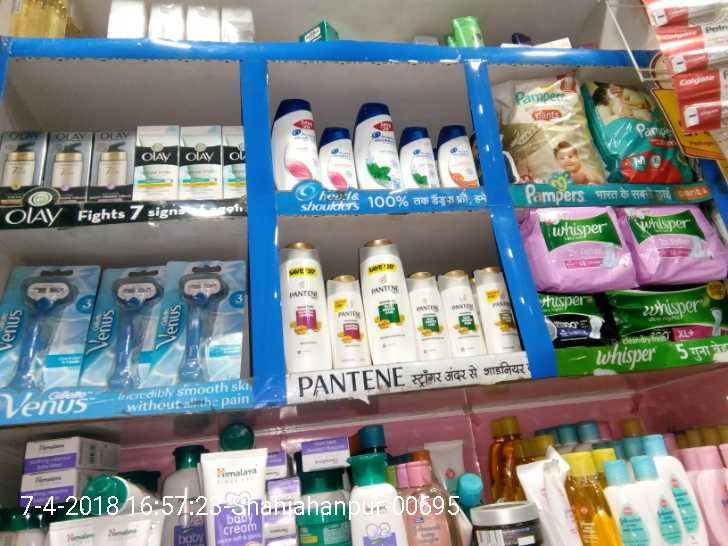venus: (160, 260, 248, 385), (3, 266, 89, 393), (89, 266, 160, 385)
